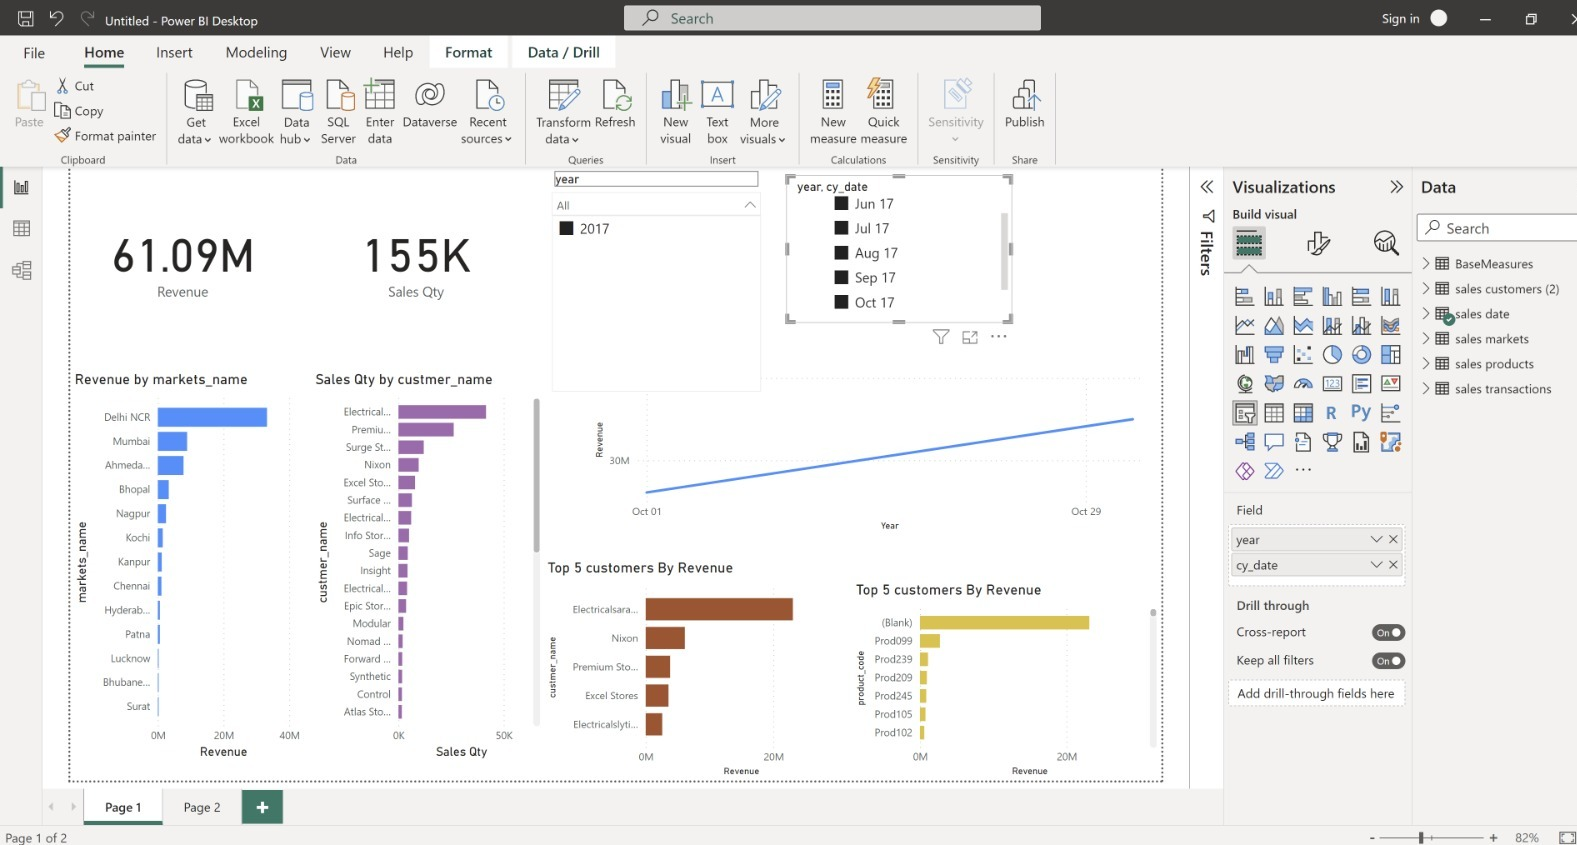

What the dashboard file says about the page in this screenshot:
{"tool":"powerbi","page":{"name":"Page 1","canvas":[1280,720],"ordinal":0},"visuals":[{"type":"card","fields":{"Values":["BaseMeasures.Revenue"]},"box":[0,0,263.5,215.4],"z":0},{"type":"card","fields":{"Values":["BaseMeasures.Sales Qty"]},"box":[273.5,0,263.5,215.4],"z":1000},{"type":"barChart","fields":{"Y":["BaseMeasures.Revenue"],"Category":["sales markets.markets_name","sales customers (2).custmer_name"]},"box":[0,239.8,273.7,459.3],"z":2000},{"type":"barChart","fields":{"Y":["BaseMeasures.Sales Qty"],"Category":["sales customers (2).custmer_name"]},"box":[281.8,239.8,273.7,459.3],"z":3000},{"type":"slicer","fields":{"Values":["sales date.year"]},"box":[546,0,265.5,173.4],"z":4000},{"type":"textbox","box":[828.5,0,265,270],"z":5000},{"type":"slicer","fields":{"Values":["sales date.year","sales date.cy_date"]},"box":[840,9.5,265.5,173.4],"z":6000},{"type":"slicer","fields":{"Values":["sales date.year"]},"box":[555,0,265.3,173.6],"z":7000},{"type":"barChart","title":"Top 5 customers By Revenue","fields":{"Y":["BaseMeasures.Revenue"],"Category":["sales customers (2).custmer_name"]},"box":[555,460.8,361.8,259.2],"z":8000},{"type":"barChart","title":"Top 5 customers By Revenue","fields":{"Y":["BaseMeasures.Revenue"],"Category":["sales products.product_code"]},"box":[916.8,486.5,363.1,233.5],"z":9000},{"type":"lineChart","title":"Revenue_Trend","fields":{"Category":["sales date.cy_date.Variation.Date Hierarchy.Year","sales date.cy_date.Variation.Date Hierarchy.Quarter","sales date.cy_date.Variation.Date Hierarchy.Month","sales date.cy_date.Variation.Date Hierarchy.Day"],"Y":["BaseMeasures.Revenue"]},"box":[609.7,215.4,659.8,216.8],"z":10000}]}

Visuals, with their boxes on the page's 1280x720 design canvas (x1, y1, x2, y2). These are canvas units, not pixel positions in the 1577x845 screenshot, which may show the page scaled, cropped or inside an application window:
card - BaseMeasures.Revenue: (left=0, top=0, right=264, bottom=215)
card - BaseMeasures.Sales Qty: (left=274, top=0, right=537, bottom=215)
barChart - BaseMeasures.Revenue x sales markets.markets_name: (left=0, top=240, right=274, bottom=699)
barChart - BaseMeasures.Sales Qty x sales customers (2).custmer_name: (left=282, top=240, right=556, bottom=699)
slicer - sales date.year: (left=546, top=0, right=812, bottom=173)
textbox: (left=828, top=0, right=1094, bottom=270)
slicer - sales date.year x sales date.cy_date: (left=840, top=10, right=1106, bottom=183)
slicer - sales date.year: (left=555, top=0, right=820, bottom=174)
"Top 5 customers By Revenue" barChart: (left=555, top=461, right=917, bottom=720)
"Top 5 customers By Revenue" barChart: (left=917, top=486, right=1280, bottom=720)
"Revenue_Trend" lineChart: (left=610, top=215, right=1270, bottom=432)
